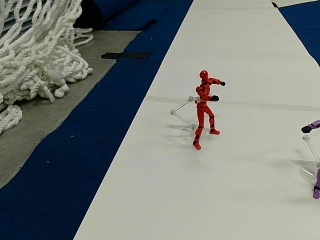pedestrian: (193, 69, 223, 148), (301, 115, 318, 196)
